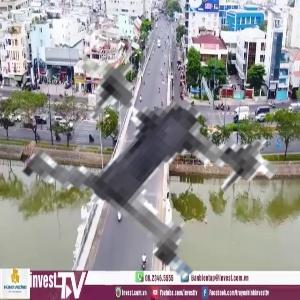drone: (11, 5, 298, 292)
